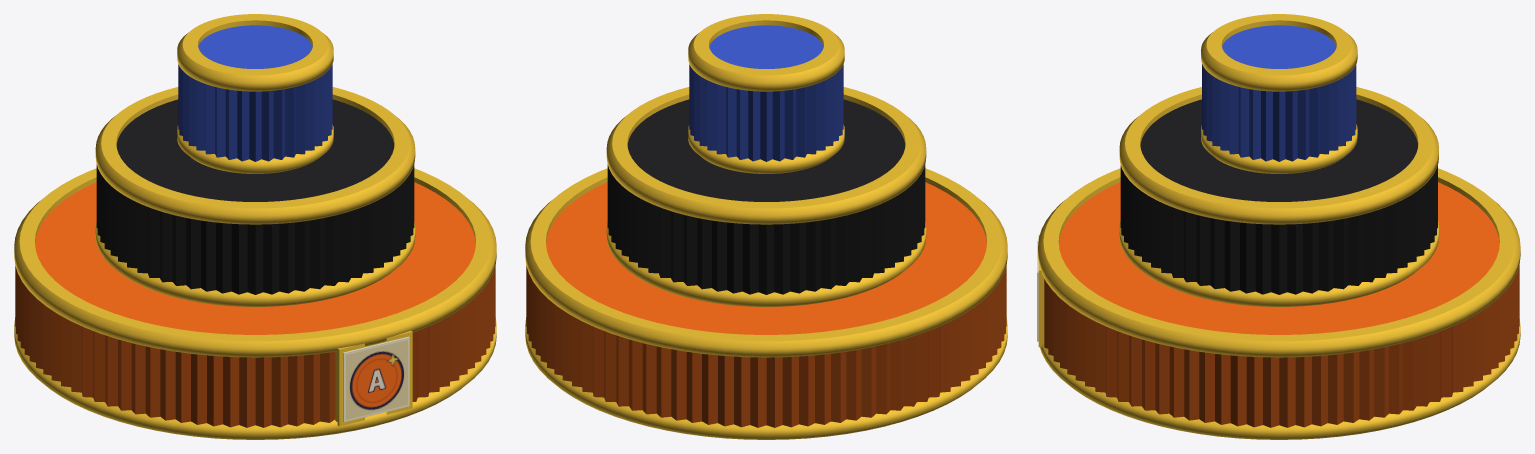
Rendered from hero_prop.glb.
3 views of the same model, side by side, from view 1: azimuth 30°, elevation 25°; view 2: azimuth 150°, elevation 25°; view 3: azimuth 270°, elevation 25° (orthographic).
Visible parts, largest first — view 1: gold, reeding_0, reeding_1, coin_0, coin_1, reeding_2, plaque_logo, coin_2, plaque_rim, plaque_plate; view 2: gold, reeding_0, reeding_1, coin_0, coin_1, reeding_2, coin_2; view 3: gold, reeding_0, reeding_1, coin_0, coin_1, reeding_2, coin_2, plaque_rim.
Boxes of the visible parts, left/top/right/bottom form: gold: left=14, top=14, right=496, bottom=439; reeding_0: left=15, top=266, right=495, bottom=427; reeding_1: left=96, top=165, right=414, bottom=294; coin_0: left=35, top=182, right=475, bottom=334; coin_1: left=116, top=99, right=394, bottom=201; reeding_2: left=178, top=64, right=332, bottom=161; plaque_logo: left=346, top=340, right=407, bottom=419; coin_2: left=198, top=25, right=312, bottom=68; plaque_rim: left=335, top=330, right=412, bottom=426; plaque_plate: left=343, top=336, right=409, bottom=421; gold: left=525, top=14, right=1007, bottom=439; reeding_0: left=526, top=266, right=1006, bottom=427; reeding_1: left=607, top=165, right=925, bottom=294; coin_0: left=546, top=182, right=986, bottom=334; coin_1: left=627, top=99, right=905, bottom=201; reeding_2: left=689, top=64, right=843, bottom=161; coin_2: left=709, top=25, right=823, bottom=68; gold: left=1038, top=14, right=1520, bottom=439; reeding_0: left=1044, top=265, right=1519, bottom=427; reeding_1: left=1120, top=165, right=1437, bottom=294; coin_0: left=1059, top=182, right=1499, bottom=334; coin_1: left=1140, top=99, right=1417, bottom=201; reeding_2: left=1202, top=64, right=1356, bottom=161; coin_2: left=1222, top=25, right=1336, bottom=68; plaque_rim: left=1038, top=234, right=1044, bottom=347.
Bounding box in the file's own units: 4.44 × 3 × 4.45.
10 materials, 1 textured.
